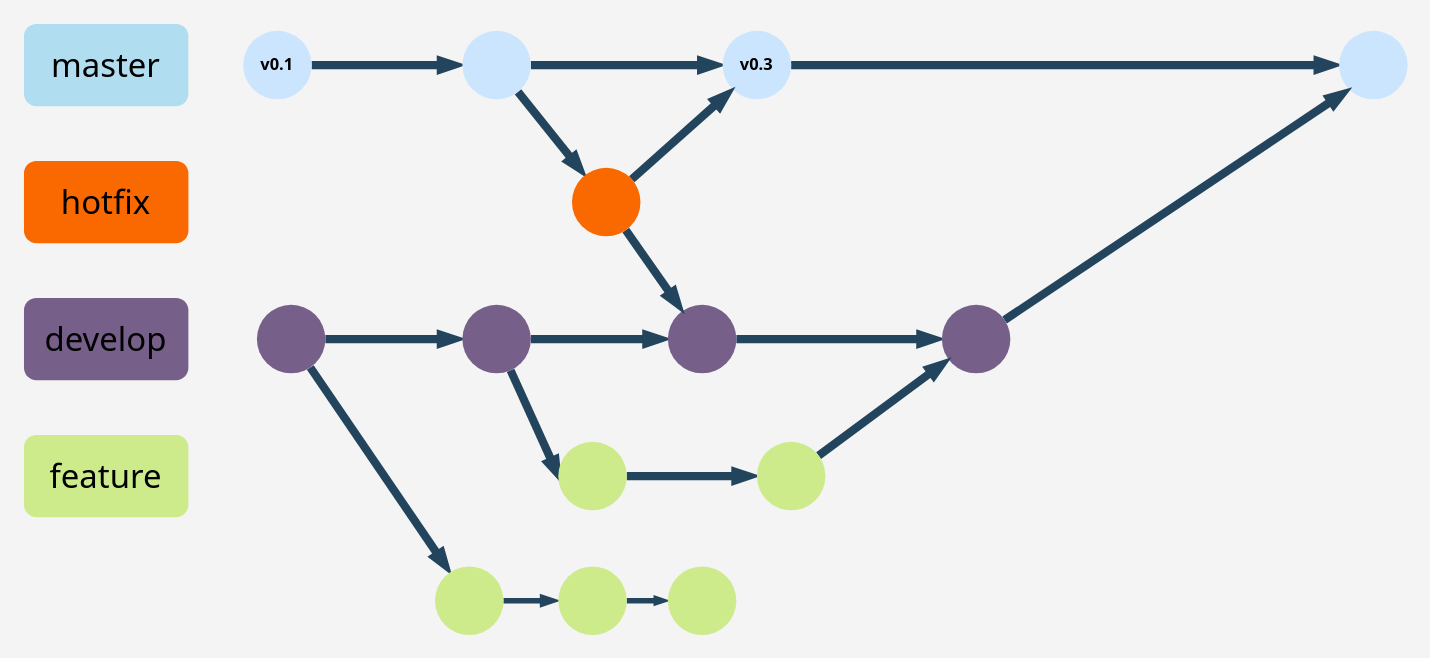
Some shapes in this 1430 by 658 pixel diagram are drawn without their labels. Here are the shapes that lost their labels. From the top down, the box of each, then its label:
(462, 30, 530, 99): v0.2
(1338, 30, 1407, 99): v0.4
